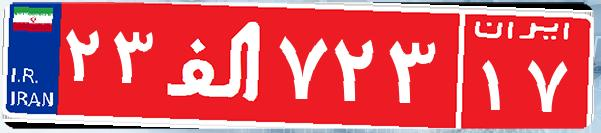1: (475, 38, 525, 113)
2: (330, 28, 385, 110), (57, 26, 110, 107)
3: (385, 28, 445, 110), (110, 28, 158, 105)
7: (273, 28, 330, 110), (525, 38, 570, 115)
الف: (158, 15, 273, 115)
